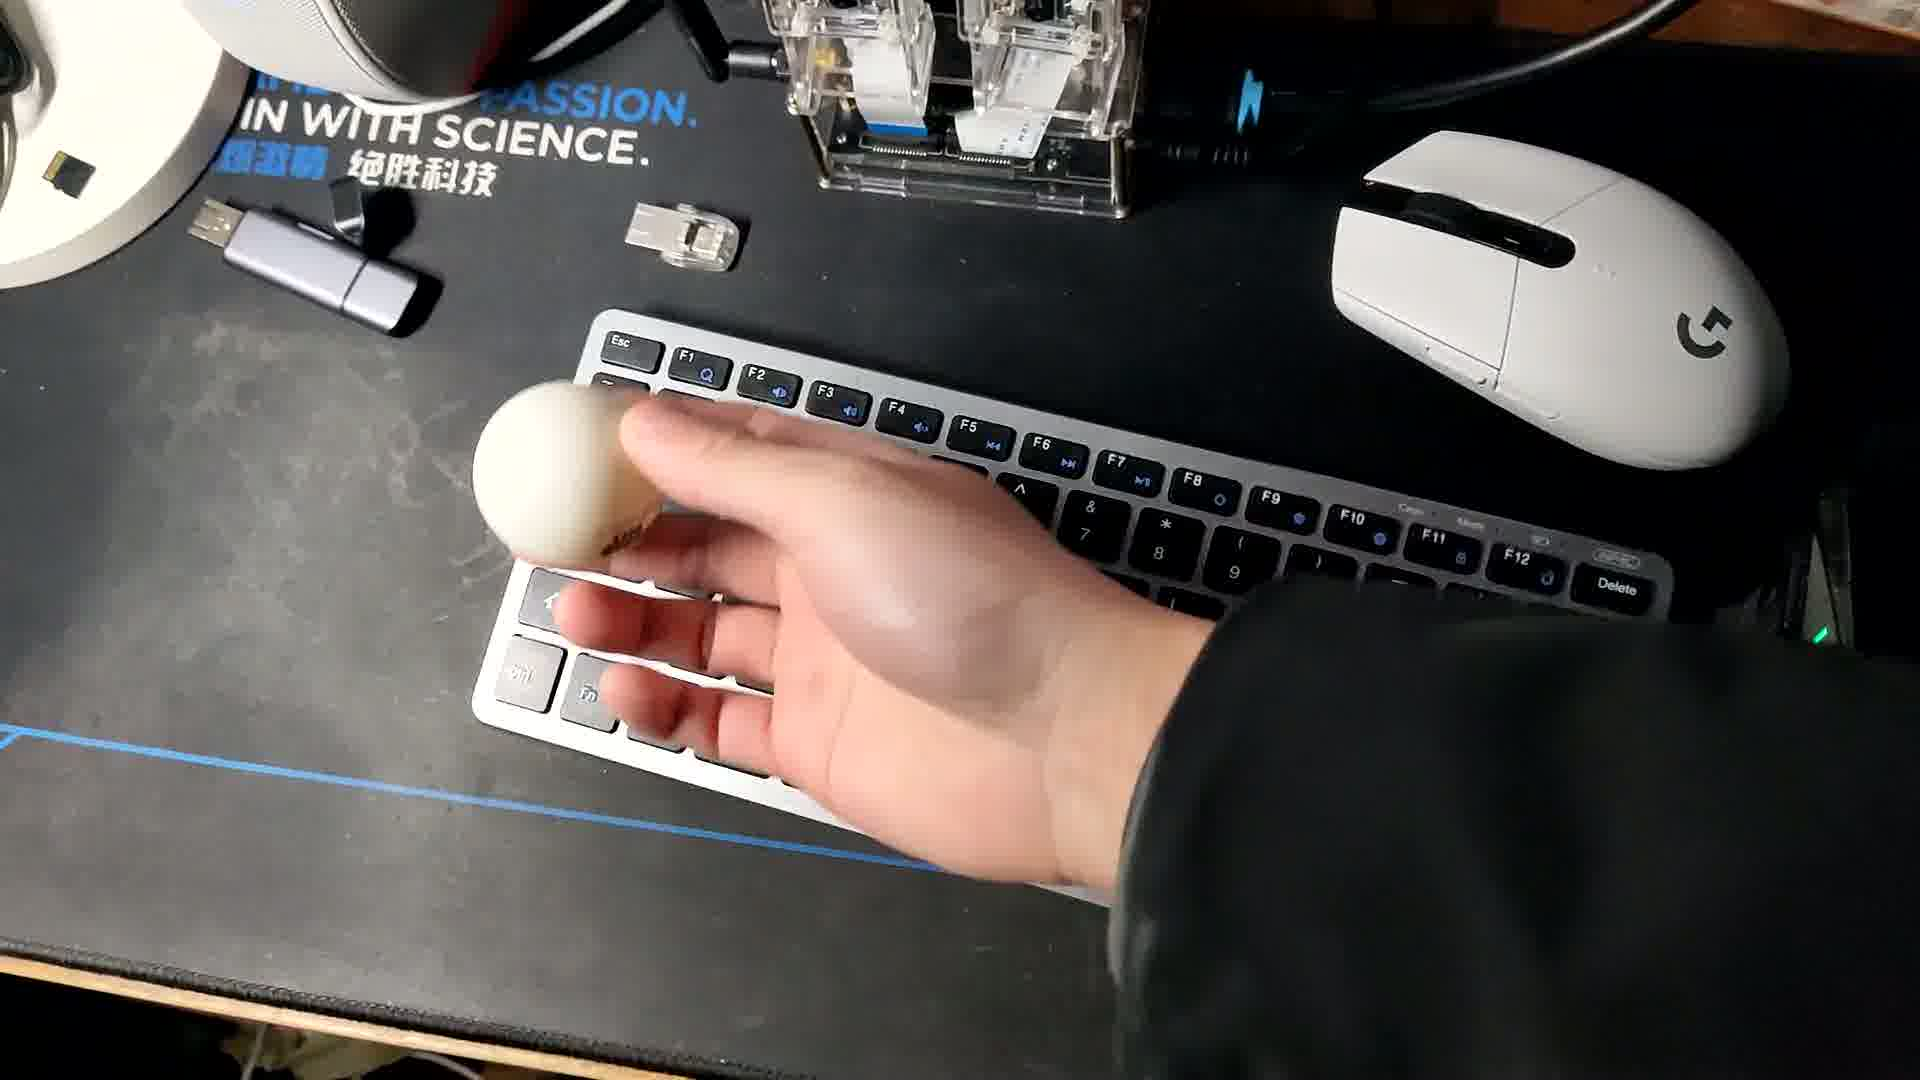Ball: (473, 382, 658, 567)
